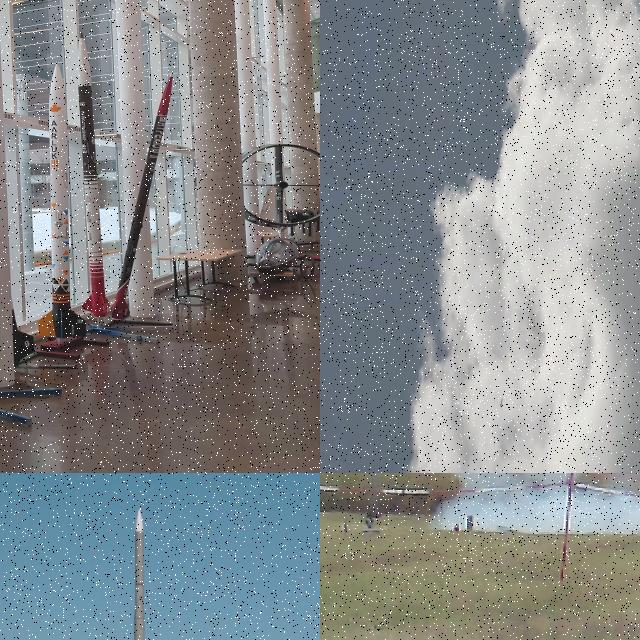Rocket: (110, 72, 173, 320), (38, 61, 86, 339), (78, 32, 110, 318), (115, 507, 164, 640), (0, 231, 34, 366), (499, 397, 504, 408)
